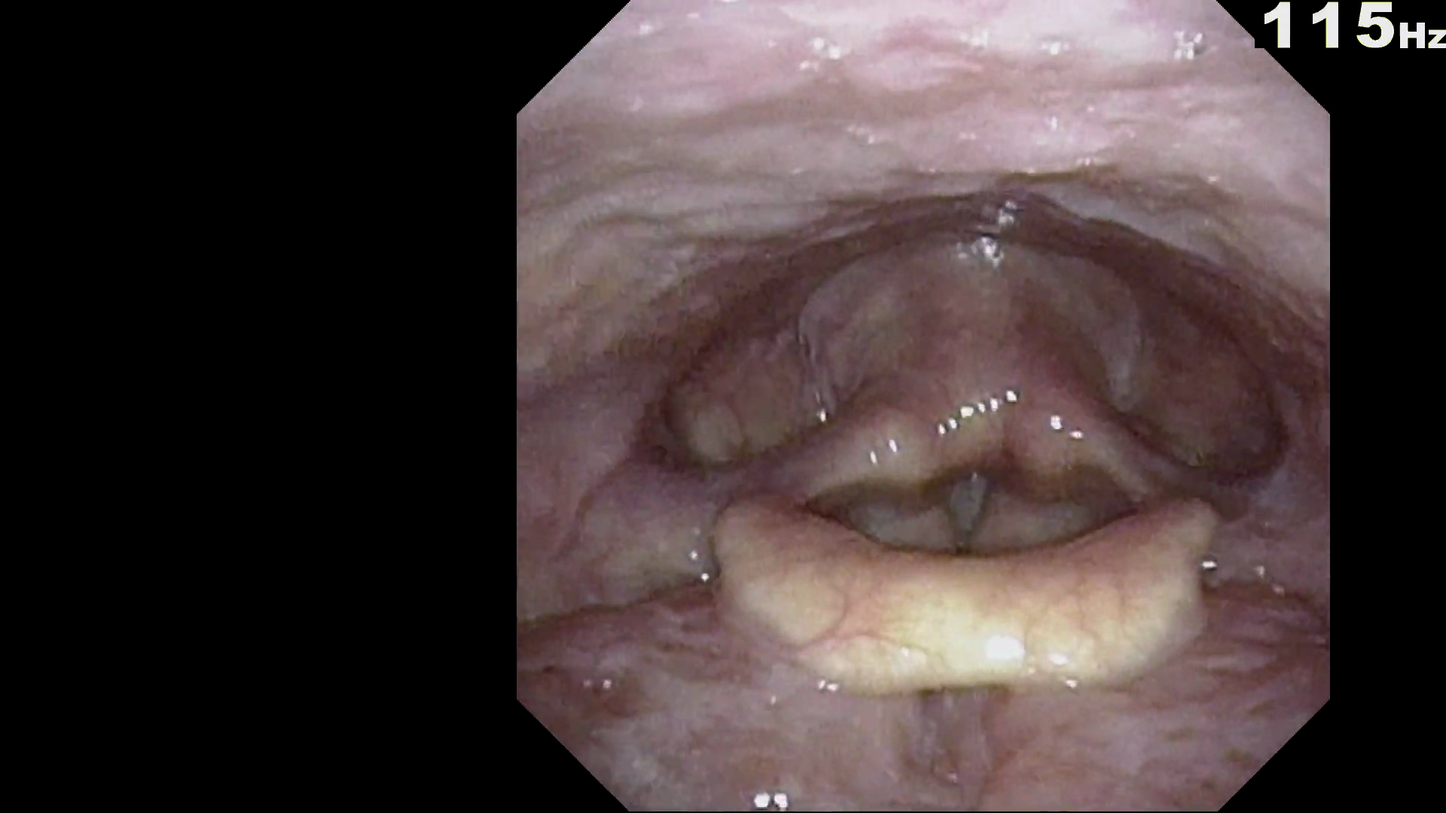epiglottis: (686, 505, 1261, 712)
trachea: (920, 456, 1022, 569)
